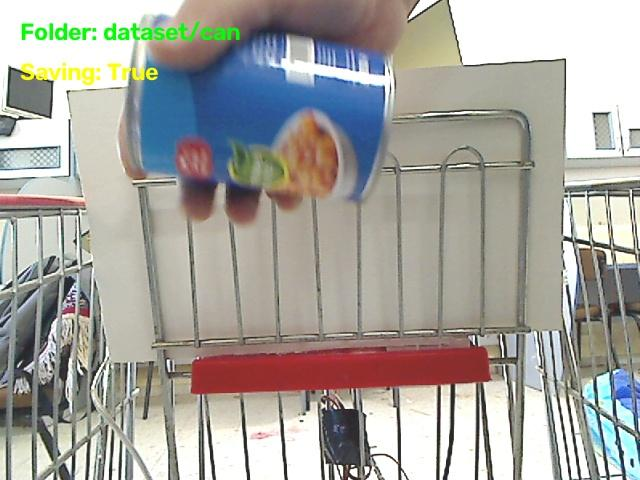can: (125, 32, 393, 200)
